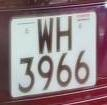3: (16, 51, 37, 98)
6: (71, 48, 92, 86), (54, 51, 74, 88)
9: (35, 54, 56, 93)
H: (54, 13, 75, 58)
W: (34, 14, 56, 59)
